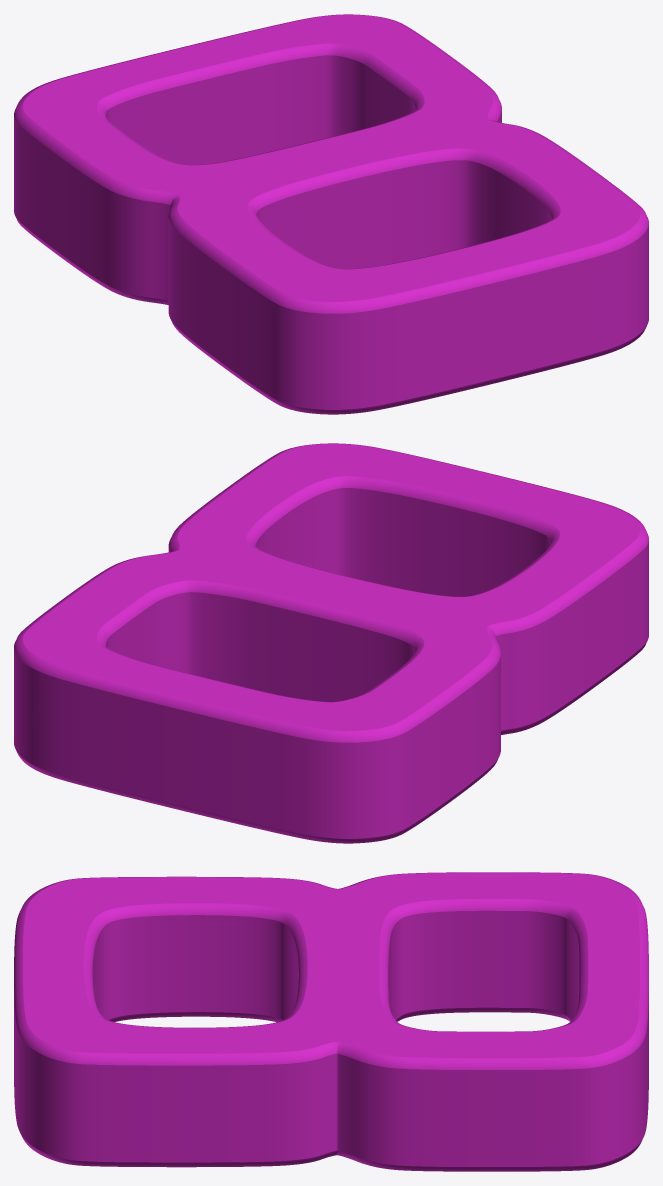
File: Number_8_CoolFont.fbx
The picture shows the model from 3 angles, top to bottom: view 1: azimuth 30°, elevation 25°; view 2: azimuth 150°, elevation 25°; view 3: azimuth 270°, elevation 25°; orthographic projection.
Visible parts, largest first — view 1: Number_8; view 2: Number_8; view 3: Number_8.
Part boxes in pixels (x1,y1,x2,y2): Number_8: [14, 14, 648, 414]; Number_8: [14, 443, 648, 843]; Number_8: [14, 872, 648, 1171].
Bounding box in the file's own units: 0.5128 × 0.14 × 0.712.
